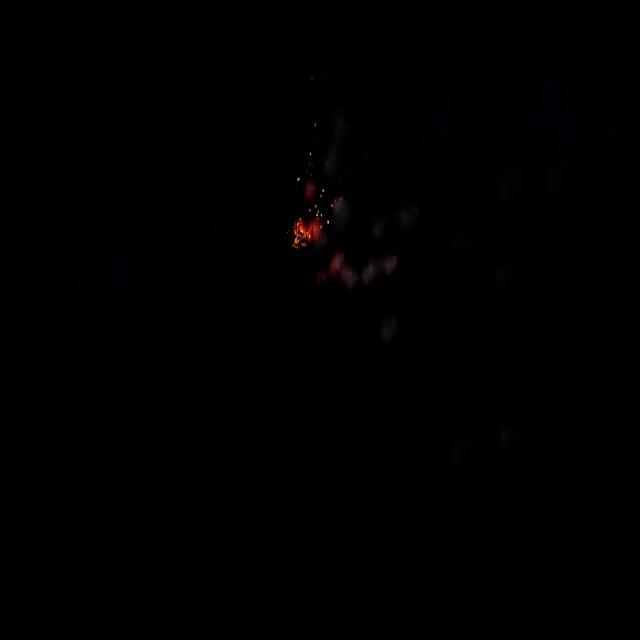fire: (292, 216, 323, 253), (295, 175, 301, 184)
smoke: (307, 110, 424, 292), (317, 250, 397, 290), (380, 318, 398, 345)
